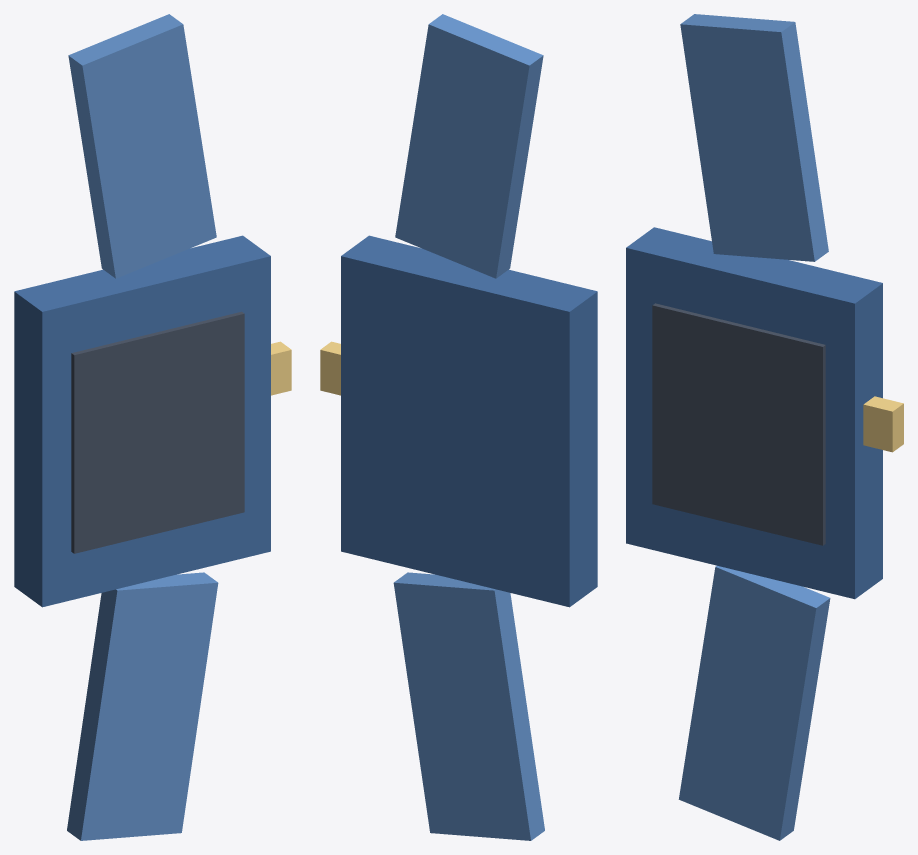
Rendered from watch.glb.
3 renders of one model, left to right at view 1: azimuth 30°, elevation 25°; view 2: azimuth 150°, elevation 25°; view 3: azimuth 330°, elevation 25°, orthographic.
Visible parts, largest first — view 1: watch-body, watch-screen, watch-strap-bottom, watch-strap-top, watch-side-button; view 2: watch-body, watch-strap-bottom, watch-strap-top, watch-side-button; view 3: watch-body, watch-screen, watch-strap-bottom, watch-strap-top, watch-side-button.
Boxes of the visible parts, x1=… form: watch-body: x1=14, y1=235, x2=270, y2=607; watch-screen: x1=71, y1=311, x2=244, y2=553; watch-strap-bottom: x1=67, y1=572, x2=218, y2=840; watch-strap-top: x1=68, y1=14, x2=216, y2=278; watch-side-button: x1=271, y1=341, x2=291, y2=395; watch-body: x1=341, y1=235, x2=597, y2=607; watch-strap-bottom: x1=393, y1=572, x2=544, y2=840; watch-strap-top: x1=395, y1=14, x2=543, y2=278; watch-side-button: x1=320, y1=341, x2=340, y2=395; watch-body: x1=626, y1=227, x2=882, y2=599; watch-screen: x1=652, y1=303, x2=825, y2=545; watch-strap-bottom: x1=678, y1=565, x2=830, y2=840; watch-strap-top: x1=680, y1=14, x2=828, y2=261; watch-side-button: x1=863, y1=396, x2=903, y2=452.
Size of the model in its own units: 1.06 by 3.17 by 0.22.
